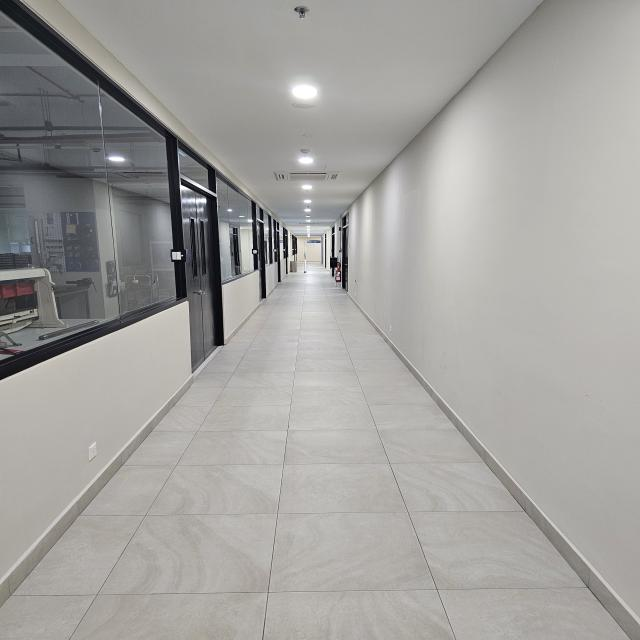door: (175, 178, 223, 376)
footpath: (145, 385, 515, 640)
